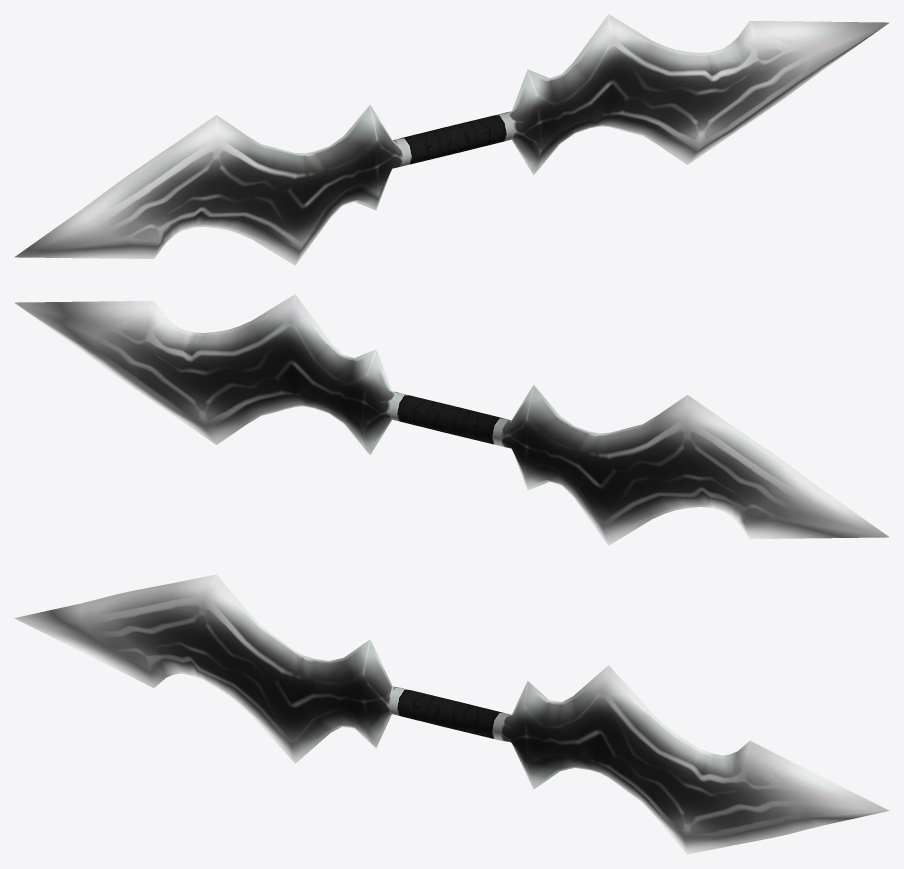
The model's file is item_weachemgm2501-et07.glb.
3 views of the same model, one above another, from view 1: azimuth 30°, elevation 25°; view 2: azimuth 150°, elevation 25°; view 3: azimuth 330°, elevation 25° (orthographic).
Visible parts, largest first — view 1: FlyffMesh; view 2: FlyffMesh; view 3: FlyffMesh.
Boxes of the visible parts, bbox=[...] form: FlyffMesh: bbox=[14, 14, 889, 265]; FlyffMesh: bbox=[14, 294, 889, 545]; FlyffMesh: bbox=[14, 574, 889, 854].
Bounding box in the file's own units: 2.09 × 0.3999 × 0.0605.
1 material, 1 textured.
